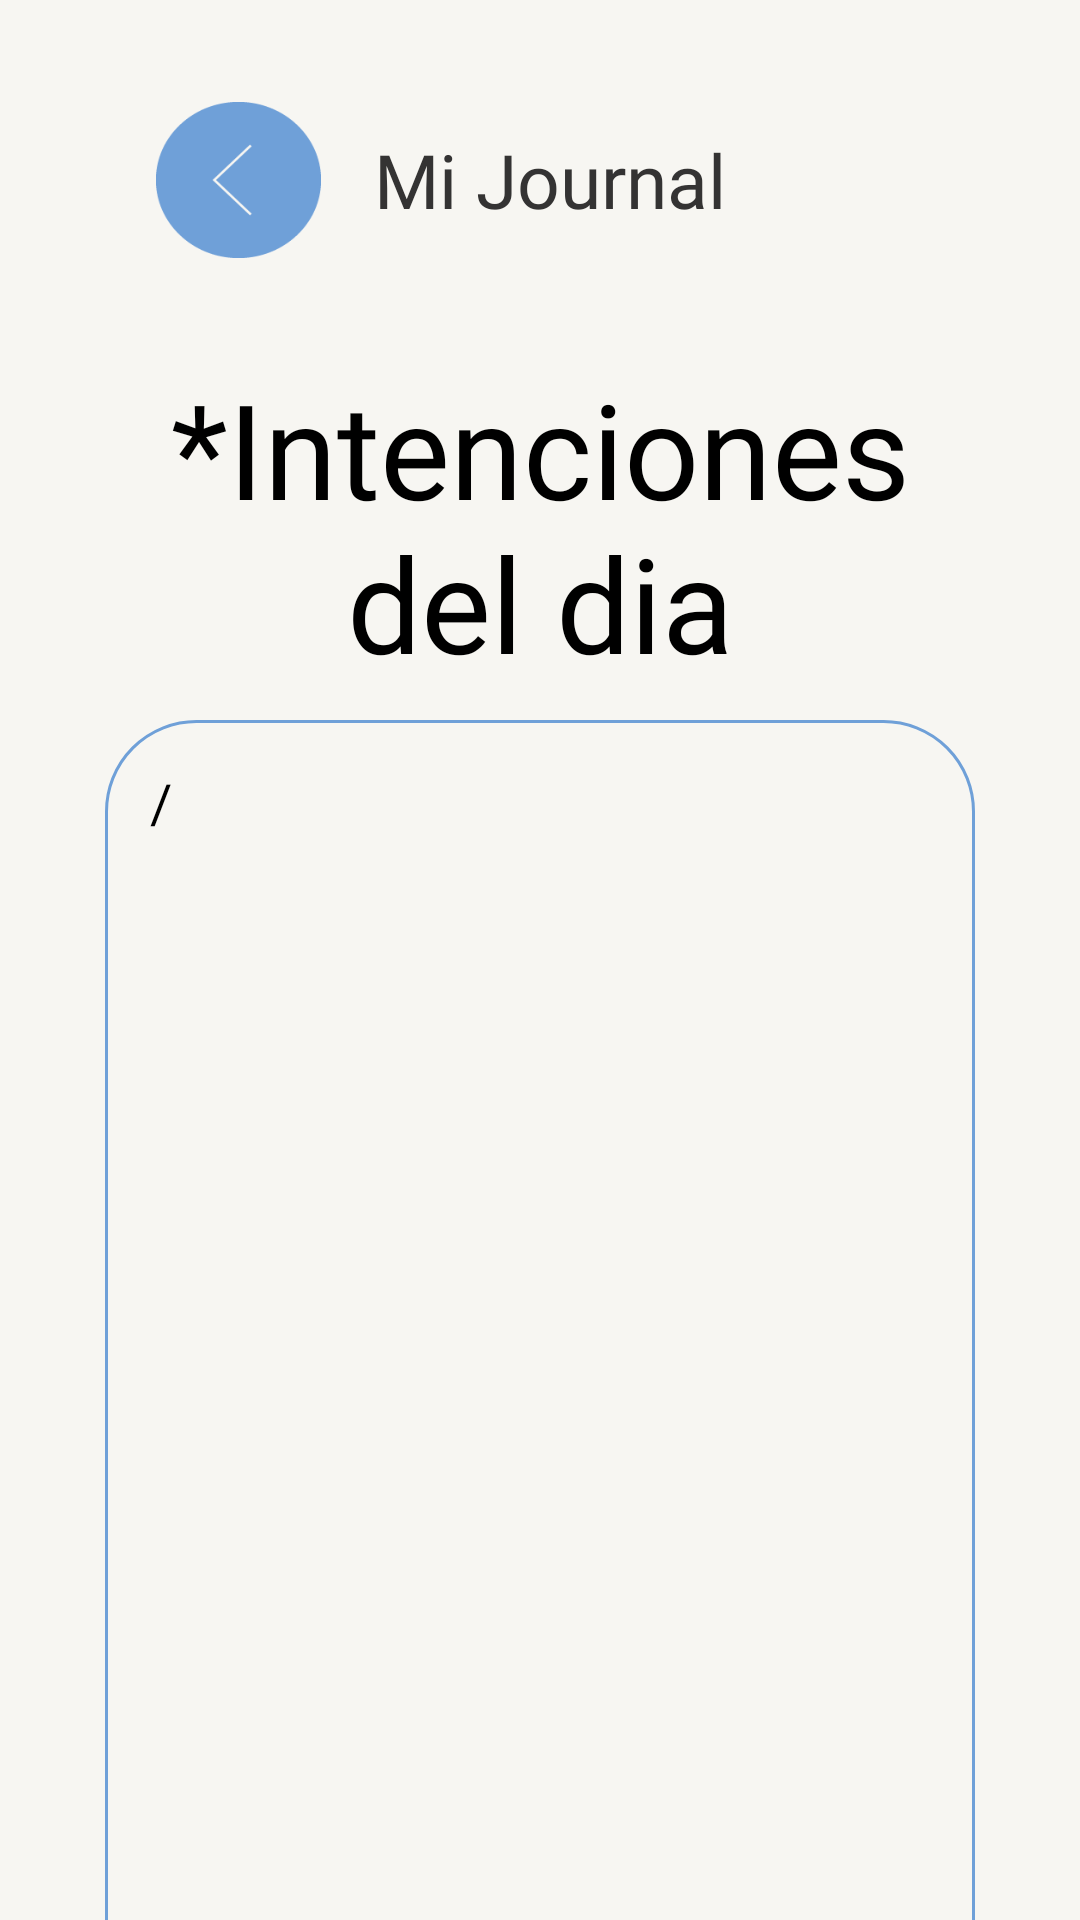

Point at icon controls on the screen. Image size 1080×1920, points as (x=x, y=y).
regresar xxxdpi: (x=238, y=180)
